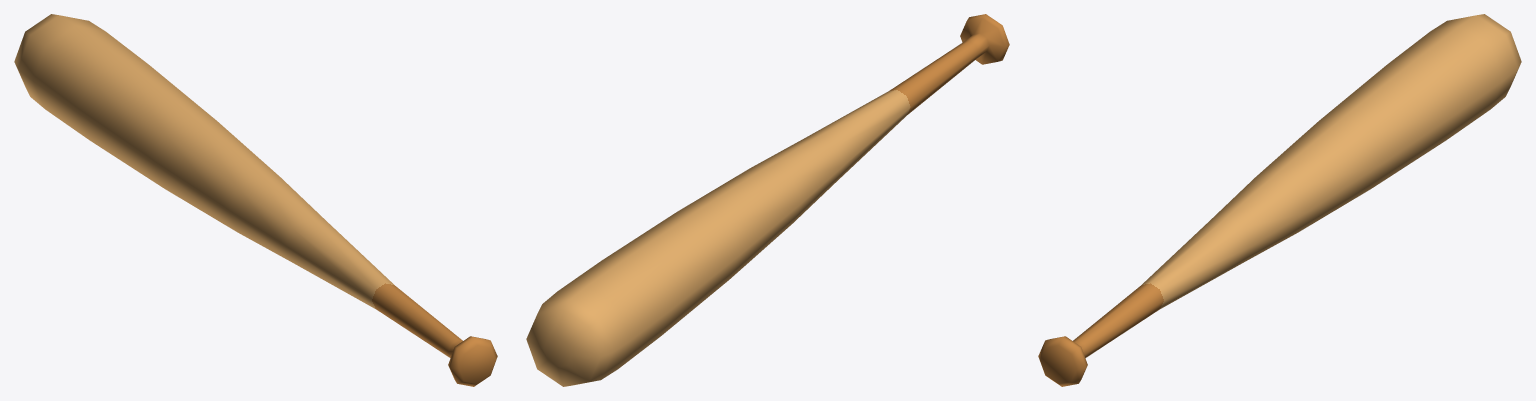
The model's file is Bat.fbx.
3 renders of one model, left to right at view 1: azimuth 30°, elevation 25°; view 2: azimuth 150°, elevation 25°; view 3: azimuth 330°, elevation 25°, orthographic.
Parts seen in each view (by area): view 1: Bat; view 2: Bat; view 3: Bat.
Part boxes in pixels (x1,y1,x2,y2): Bat: [14, 14, 497, 386]; Bat: [526, 14, 1009, 386]; Bat: [1038, 14, 1521, 386].
Bounding box in the file's own units: 32.94 × 32.94 × 288.
